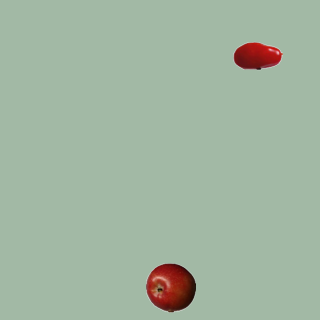Apple Braeburn: (145, 262, 195, 312)
Tomato 2: (232, 30, 282, 80)
